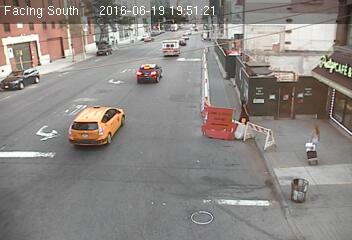neg: (97, 102, 120, 133), (183, 194, 205, 224), (147, 142, 169, 171), (87, 181, 108, 209), (317, 50, 338, 78), (140, 56, 161, 83), (210, 168, 230, 195), (284, 176, 304, 202), (104, 40, 122, 65), (53, 120, 71, 143), (252, 66, 269, 88), (198, 106, 214, 128), (228, 46, 244, 68), (43, 54, 56, 71)
pos: (305, 118, 329, 150)
